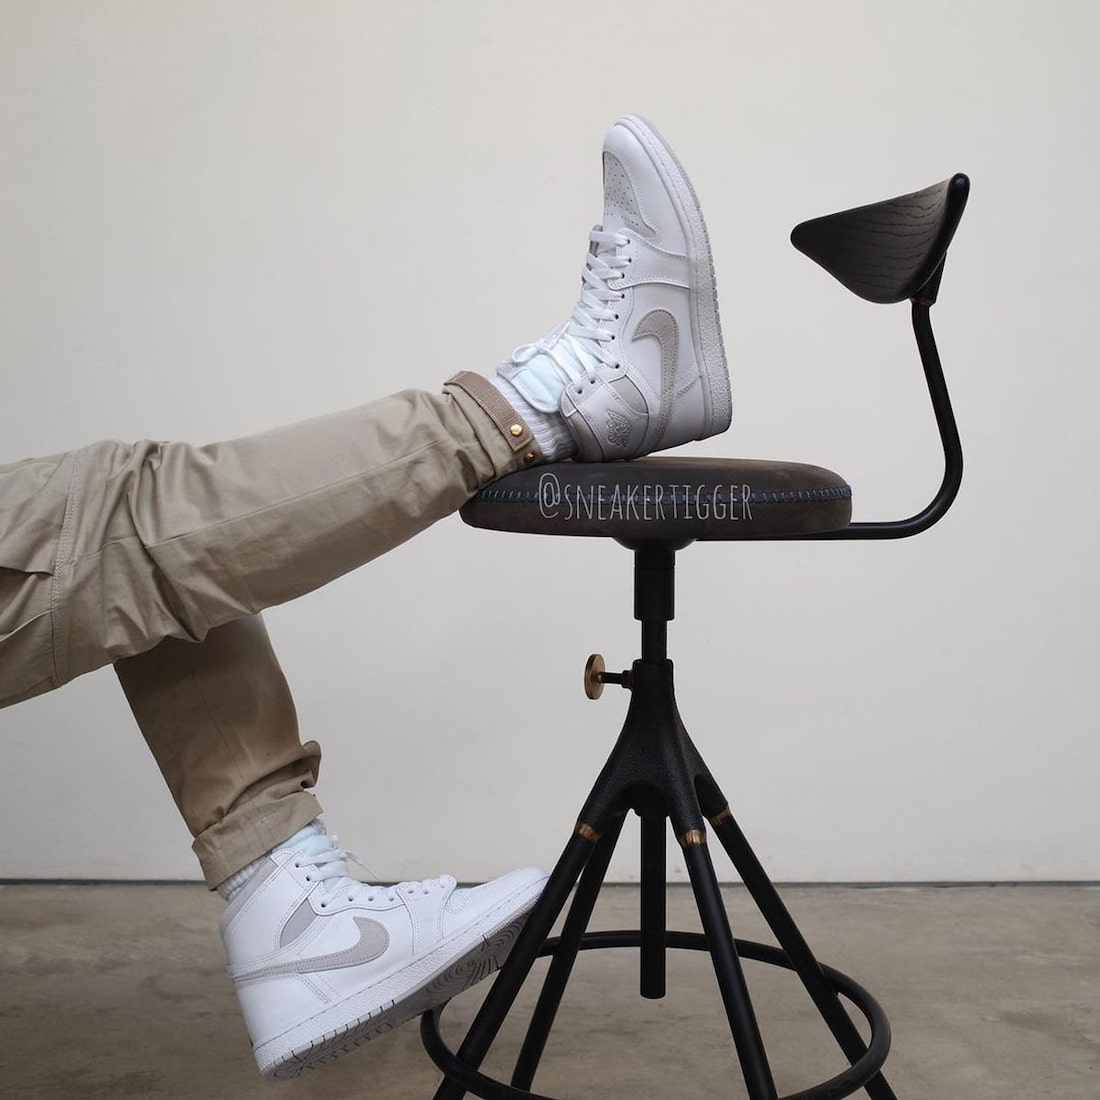Jordan 1: (489, 113, 758, 476), (214, 813, 562, 1089)
